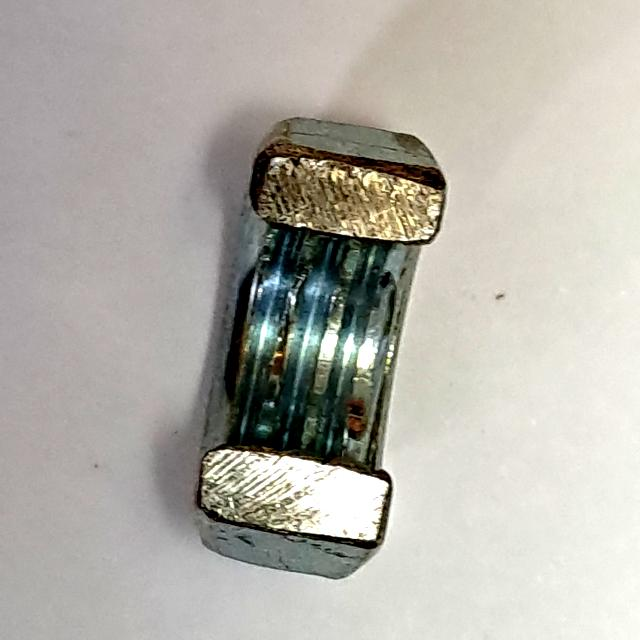Side-Fracture: (179, 111, 457, 592)
